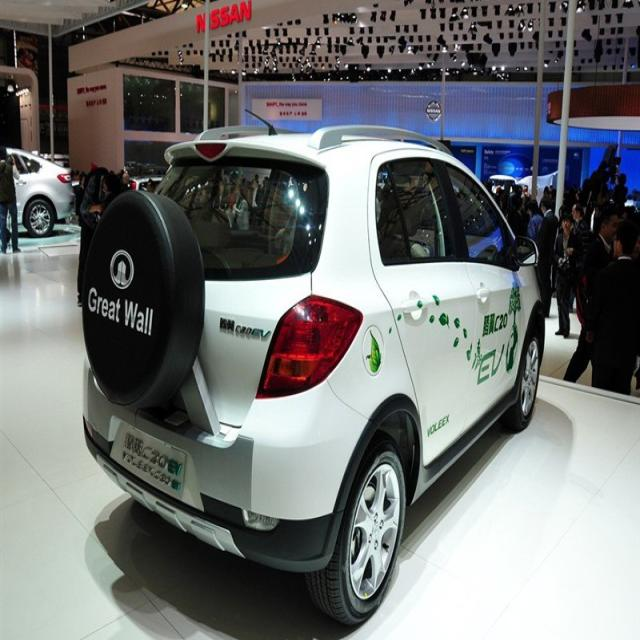back_glass: (152, 156, 333, 276)
back_right_side_light: (255, 292, 366, 404)
door: (364, 158, 486, 422)
front_right_side_door: (438, 149, 524, 439)
front_right_side_mirror: (510, 228, 543, 271)
rear_bumper: (78, 359, 370, 573)
wheel: (298, 434, 411, 630), (501, 318, 548, 434)
